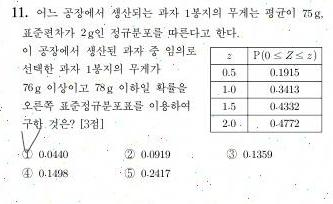choice: (19, 140, 34, 161)
not-choice: (122, 147, 136, 161), (20, 167, 34, 180), (122, 167, 135, 180), (225, 148, 237, 160)
